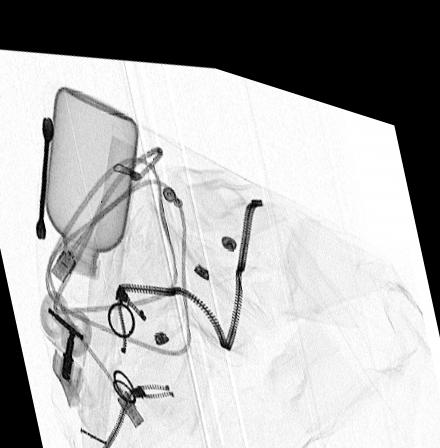Wrench: (34, 113, 54, 237)
